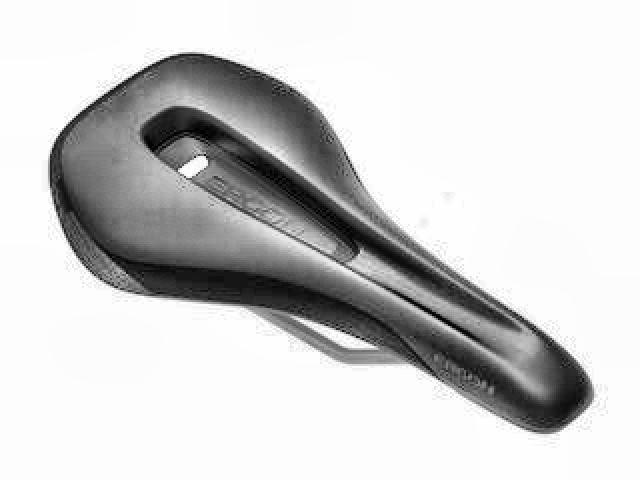saddle: (44, 53, 598, 440)
